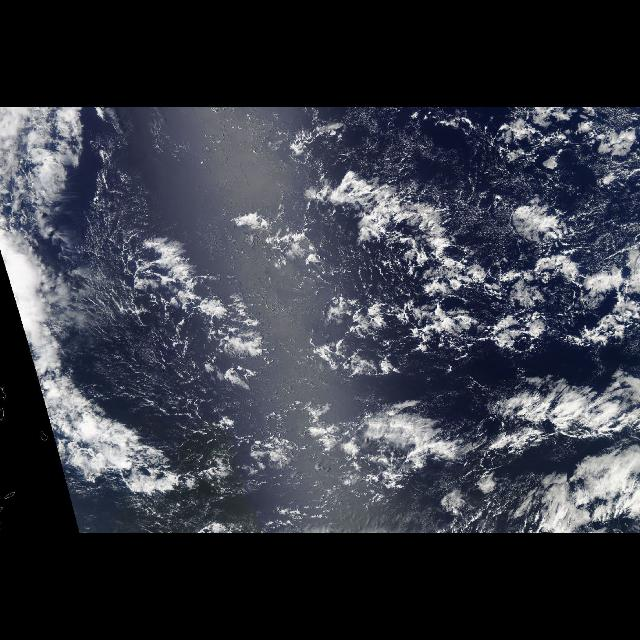Fish: (89, 155, 639, 532)
